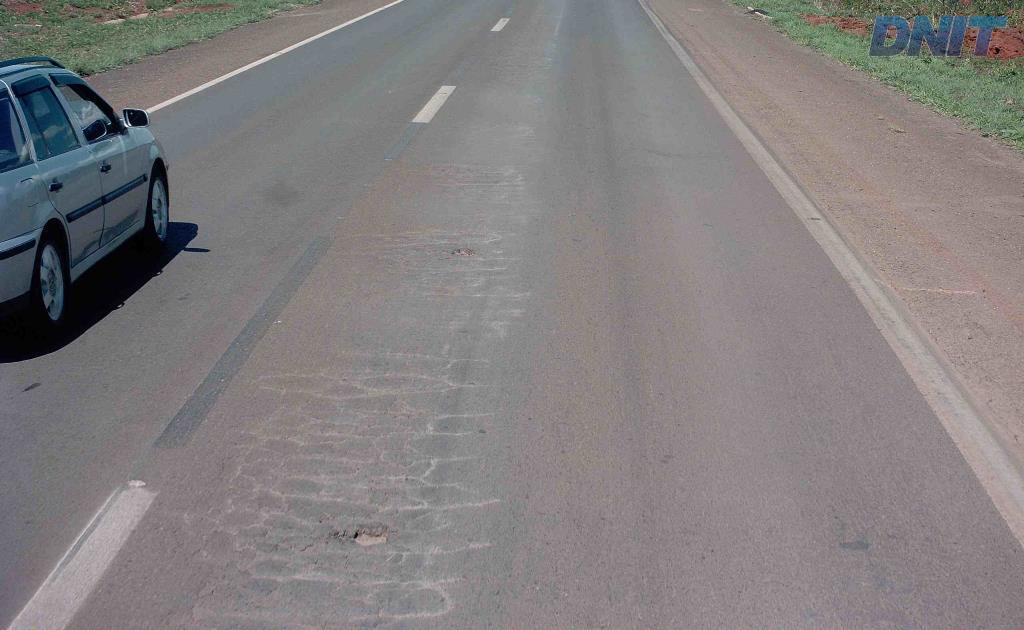pothole: (326, 517, 396, 554), (444, 238, 485, 260)
